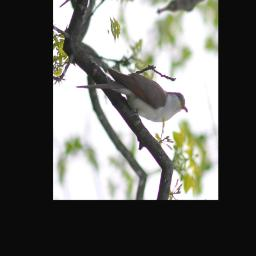Cuckoo: (72, 41, 188, 153)
